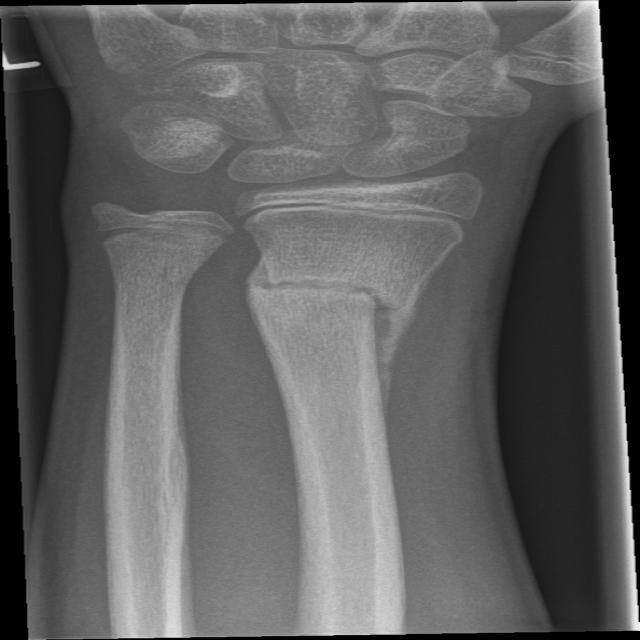radius fracture: (217, 244, 448, 463)
